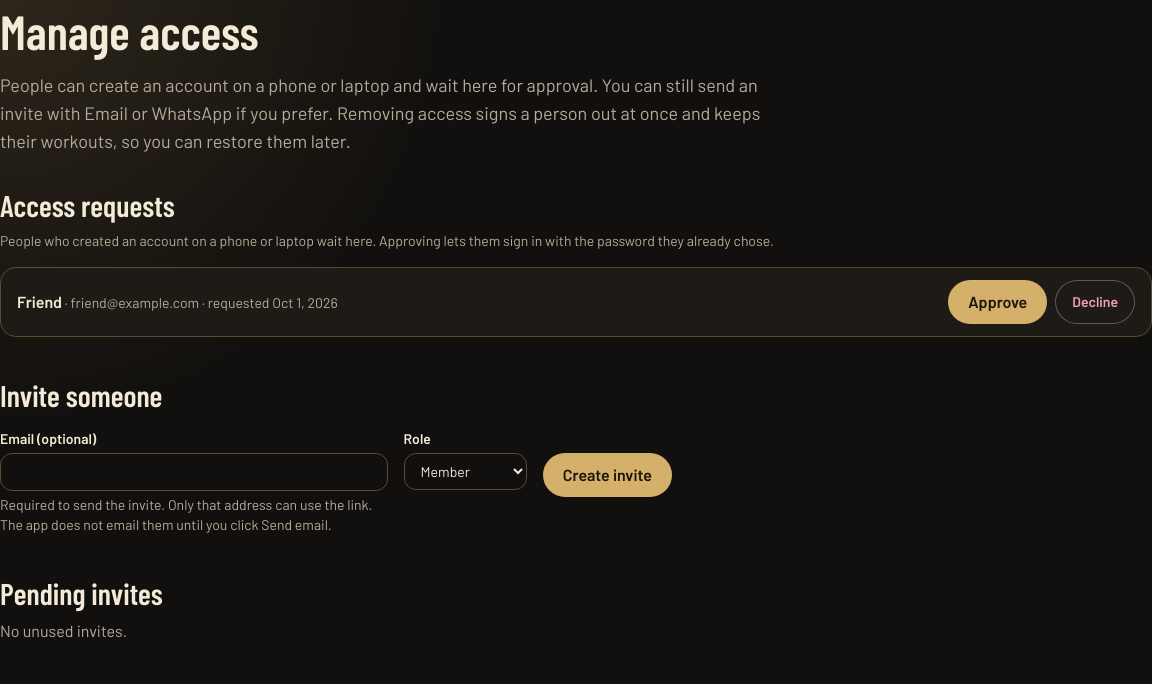
Test: AdminPage › offers a phone Wi-Fi link when the server returns a mobile URL
The image size is (1152, 684).
Type "friend@example.com" into the field labelled "Email (optional)".
click(194, 472); type("friend@example.com")  # box [0,453,388,491]
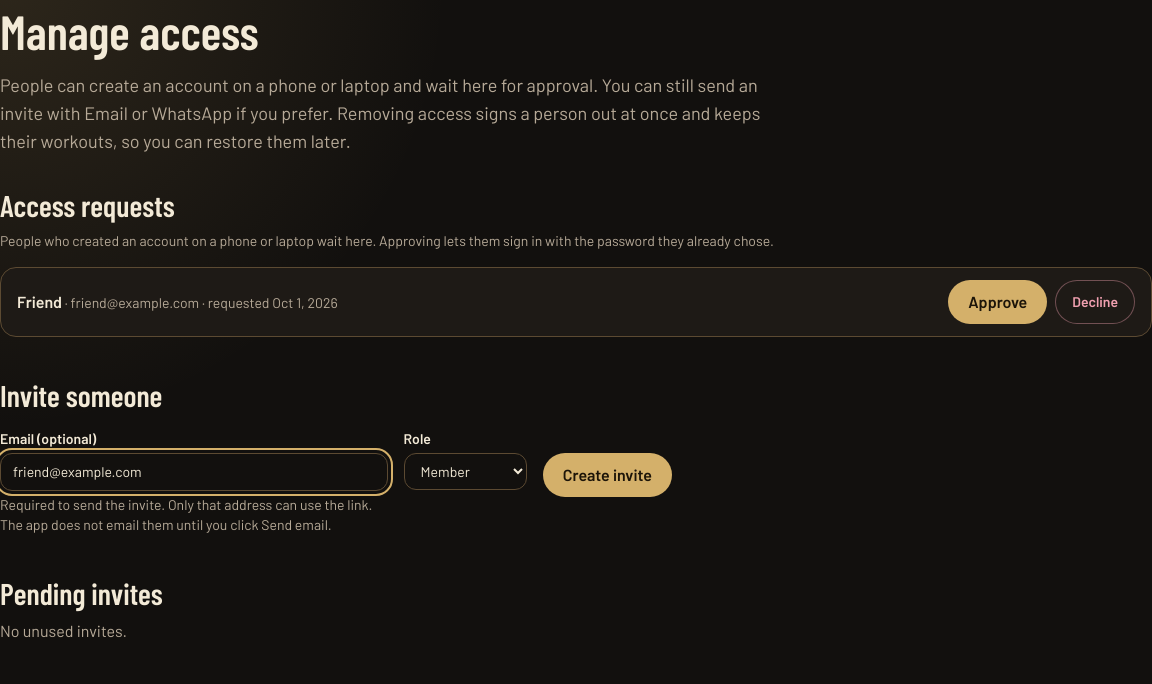
Click the button "Create invite".
click(607, 475)  # box [543,453,672,497]
(page scrolled)
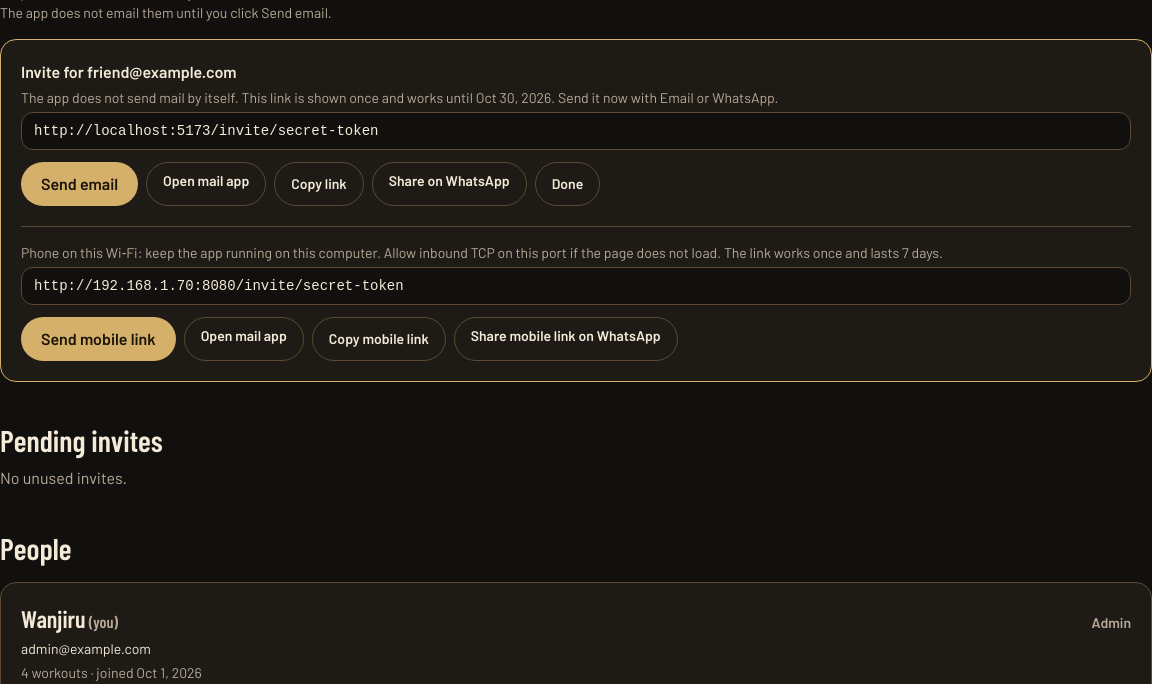
Expected: the field named "Phone link" holds "http://192.168.1.70:8080/invite/secret-token", [21,267,1131,305]
Expected: the button "Copy mobile link" is shown, [312,317,446,361]
